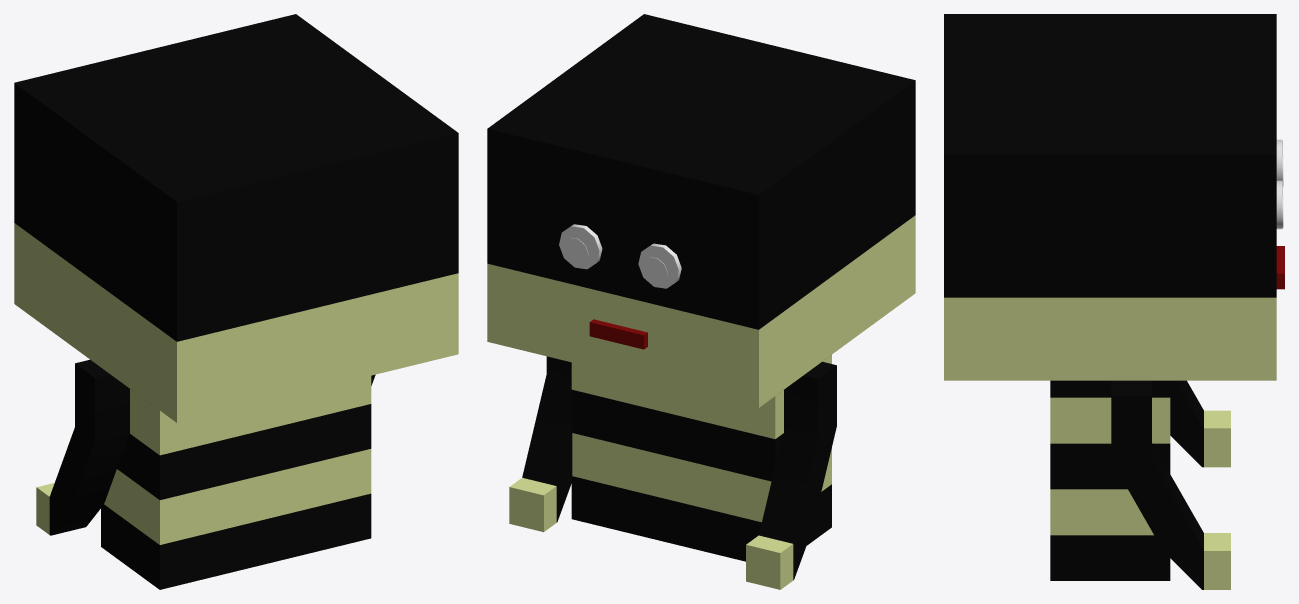
Rendered from bandit.FBX.
3 renders of one model, left to right at view 1: azimuth 30°, elevation 25°; view 2: azimuth 150°, elevation 25°; view 3: azimuth 270°, elevation 25°, orthographic. The views are drawn at different scales.
Visible parts, largest first — view 1: Box007, Box010, Box006; view 2: Box007, Box010, Box006, Box009, Box008, Cylinder008, Cylinder007, Cylinder005, Cylinder006; view 3: Box007, Box010, Box009, Box006.
Part boxes in pixels (box(x1,y1,x2,y2)): Box007: box(14, 14, 458, 422); Box010: box(101, 376, 371, 589); Box006: box(36, 359, 129, 535); Box007: box(487, 14, 915, 407); Box010: box(571, 355, 831, 561); Box006: box(746, 361, 836, 589); Box009: box(509, 356, 572, 532); Box008: box(589, 319, 647, 349); Cylinder008: box(638, 243, 681, 288); Cylinder007: box(559, 224, 602, 269); Cylinder005: box(641, 257, 667, 285); Cylinder006: box(562, 237, 588, 265); Box007: box(944, 14, 1276, 380); Box010: box(1050, 380, 1170, 580); Box009: box(1111, 380, 1230, 589); Box006: box(1170, 380, 1230, 467).
Bounding box in the file's own units: 20.01 × 29.48 × 20.5.
